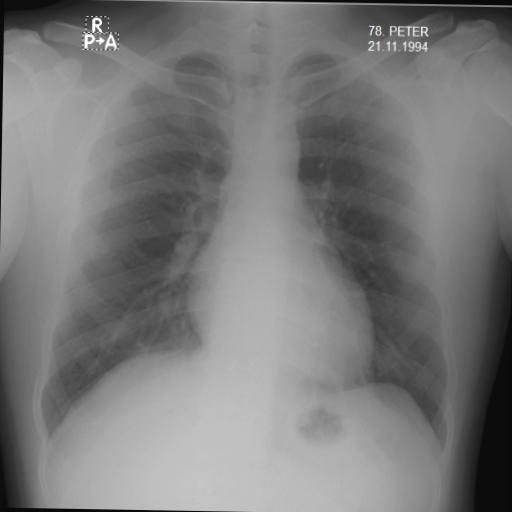normal: (28, 22, 461, 462)
